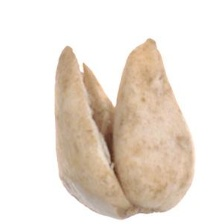L1: (64, 38, 152, 129), (114, 202, 166, 219)
L2: (55, 40, 196, 220)
